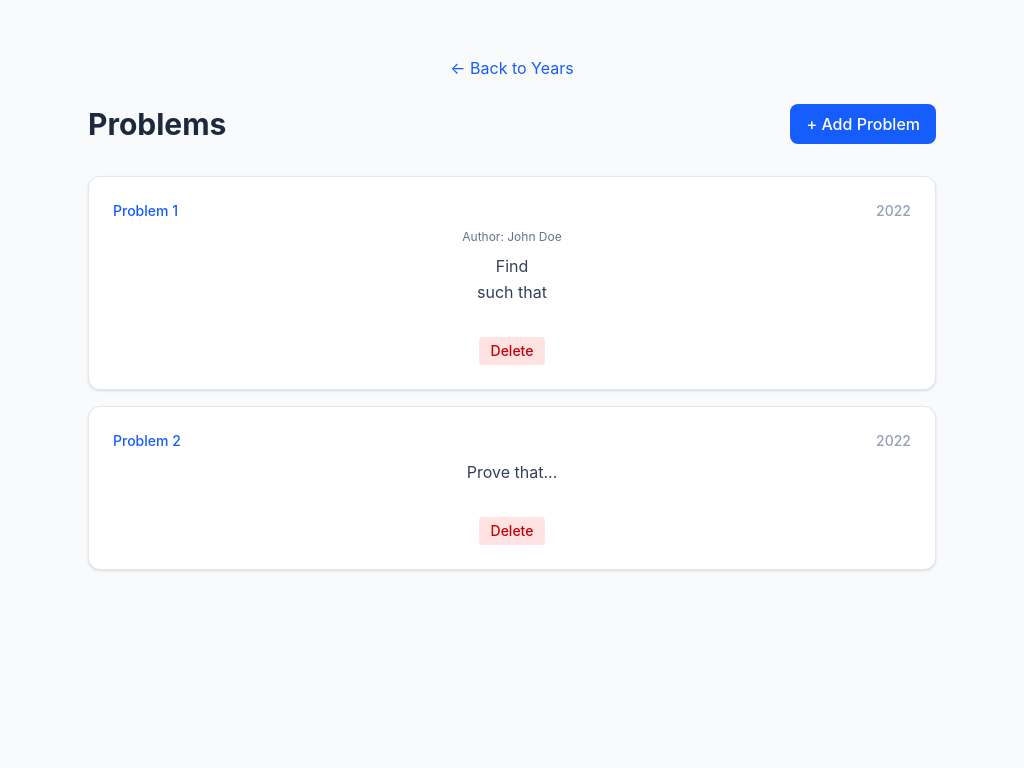
Scenario: can fill and submit the problem form
Expected: the text "Problem 1" is shown, [113,201,178,221]
Click the button "+ Add Problem" at (863, 124), box [790,104,936,144]
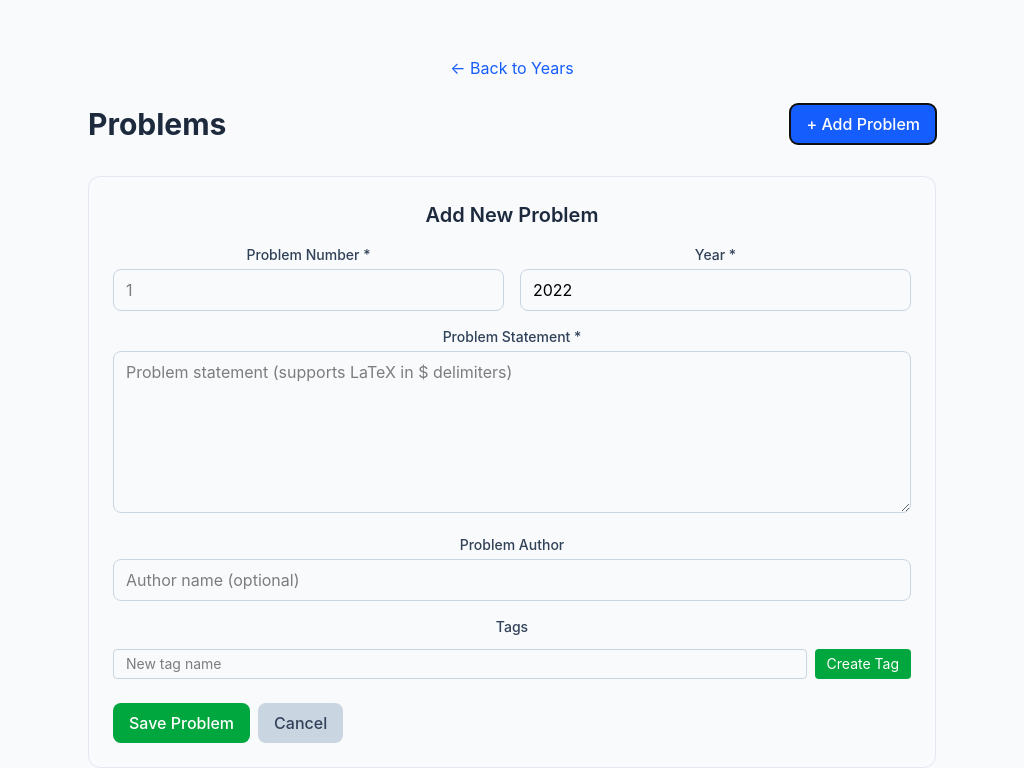
Type "3" into the number field with placeholder "1" at (308, 290), box [113,269,504,311]
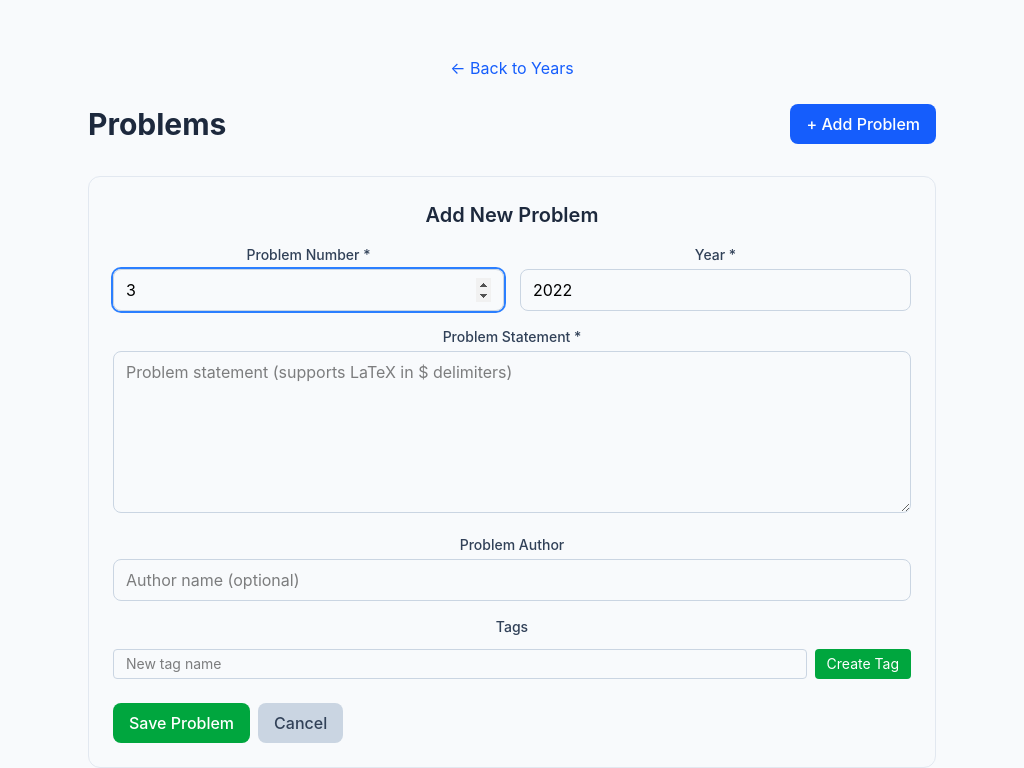
Type "Test problem statement" into the text box with placeholder "Problem statement (supports LaTeX in $ delimiters)" at (512, 432), box [113,351,911,513]
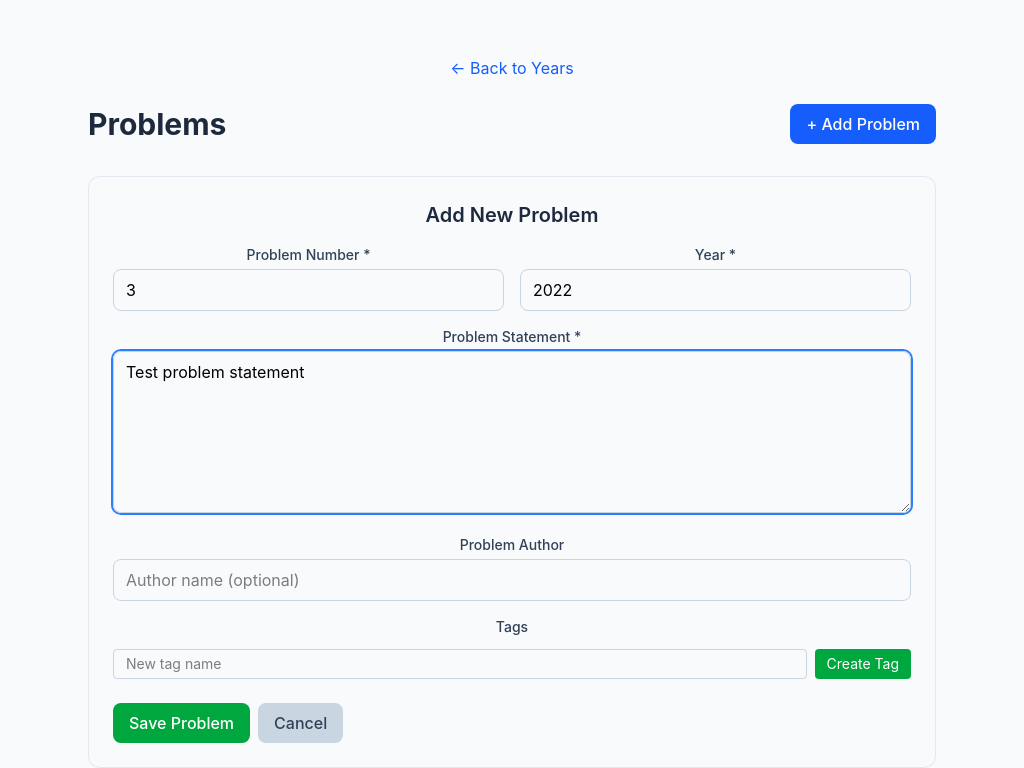
Type "Test Author" into the field with placeholder "Author name (optional)" at (512, 580), box [113,559,911,601]
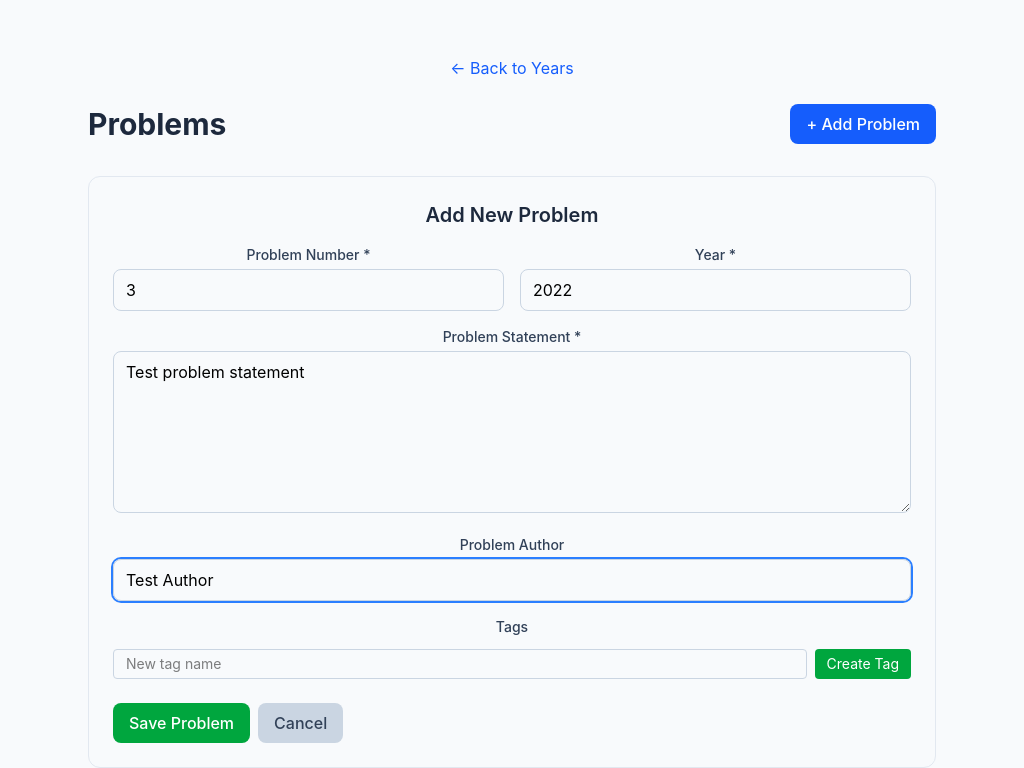
Click the button "Save Problem" at (182, 723), box [113,703,250,743]
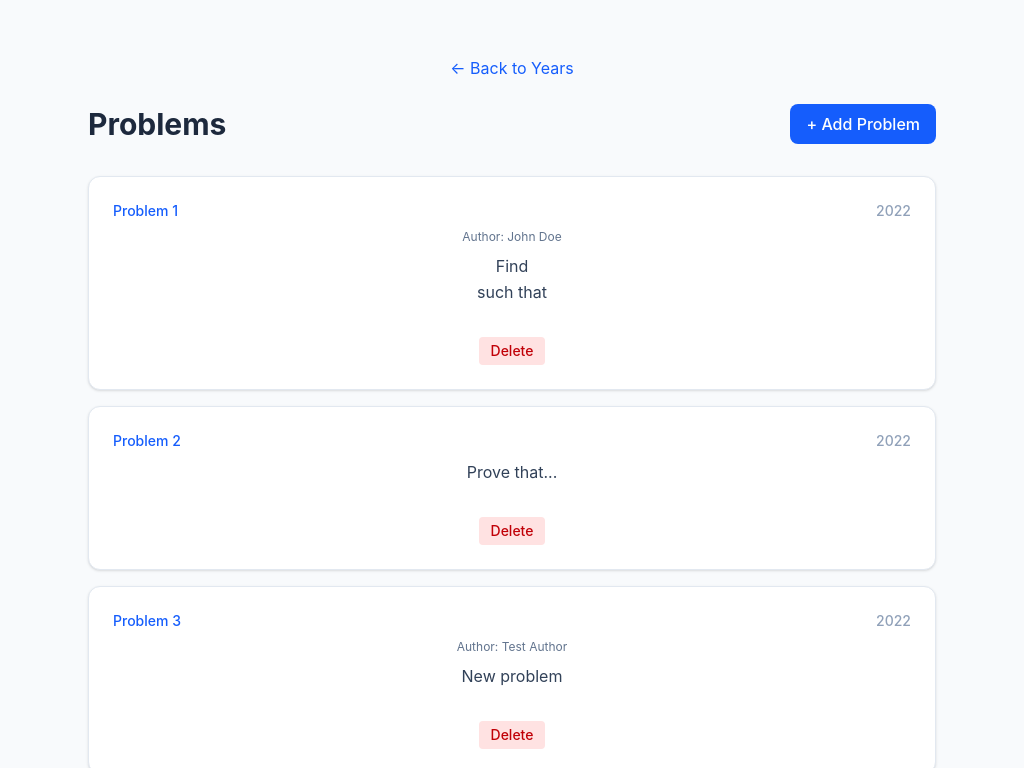
Result: the label labelled "Problem Number" is gone
